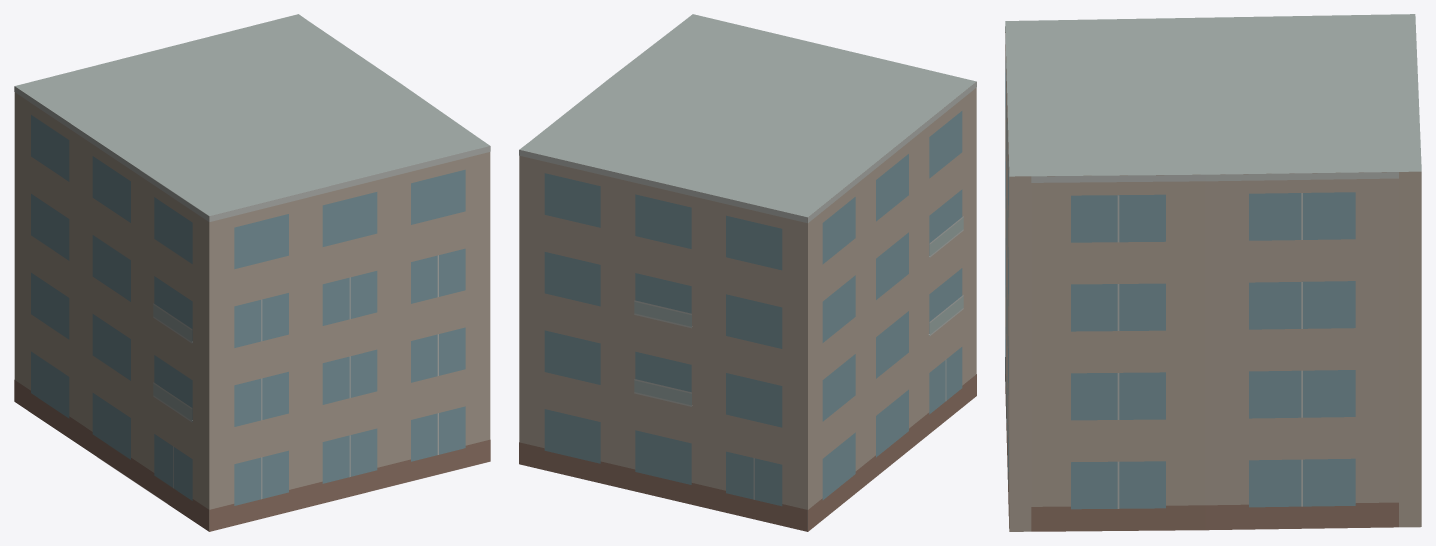
File: survey-upis-32748343.glb
3 renders of one model, left to right at view 1: azimuth 30°, elevation 25°; view 2: azimuth 150°, elevation 25°; view 3: azimuth 270°, elevation 25°, orthographic. The views are drawn at different scales.
Visible parts, largest first — view 1: survey-upis-32748343.tmp; view 2: survey-upis-32748343.tmp; view 3: survey-upis-32748343.tmp.
Boxes of the visible parts, x1=… form: survey-upis-32748343.tmp: x1=14, y1=14, x2=490, y2=531; survey-upis-32748343.tmp: x1=519, y1=14, x2=976, y2=531; survey-upis-32748343.tmp: x1=1005, y1=14, x2=1421, y2=531.
Bounding box in the file's own units: 12.75 × 13 × 13.82.
